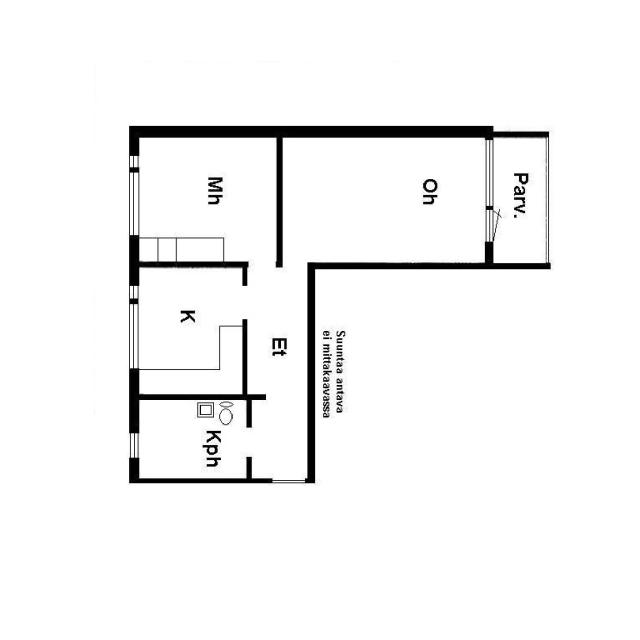door: (135, 399, 250, 480)
window: (124, 159, 143, 242), (479, 136, 498, 210), (126, 293, 141, 374), (481, 206, 497, 246), (126, 429, 142, 462), (244, 426, 255, 460)
zone: (280, 134, 487, 264), (135, 134, 276, 262), (133, 264, 244, 395), (135, 398, 251, 481)
